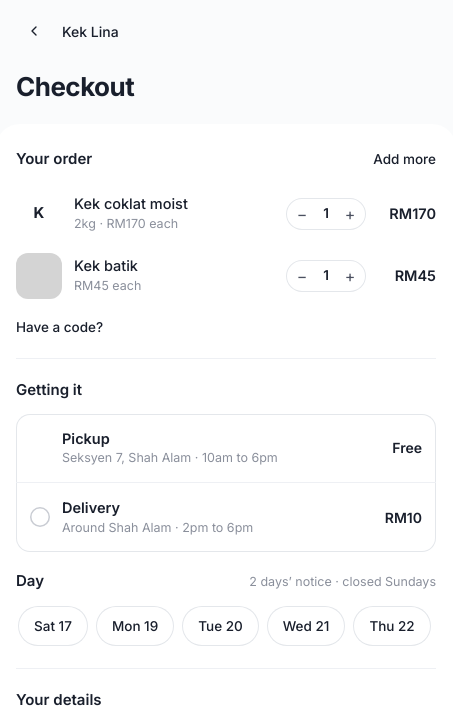
Test: Checkout › lists the basket with steppers and the total
The image size is (453, 725).
Expected: the text "2kg · RM170 each" is shown, x1=74 y1=216 x2=178 y2=231
Expected: the text "RM170" is shown, x1=389 y1=205 x2=436 y2=222
Click the button named "One more" at point(350, 214), box x1=336 y1=200 x2=364 y2=228
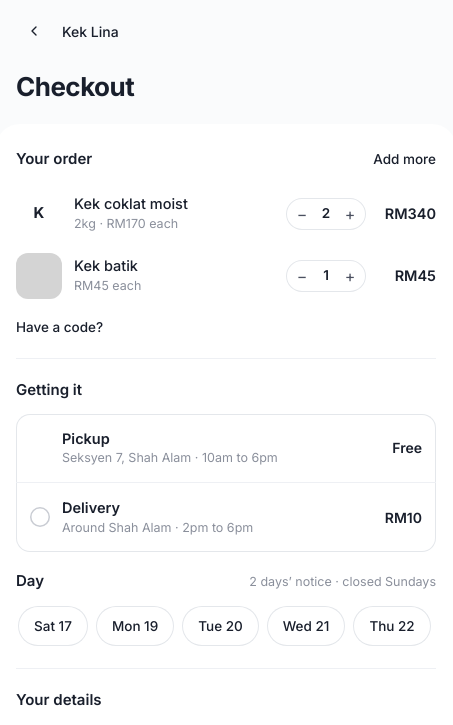
Now the text "RM340" is shown, box x1=378 y1=203 x2=436 y2=224
At 1, one less takes the line away, as the board's minus does.
Click the button named "One less" at point(302, 276), box x1=288 y1=262 x2=316 y2=290
(page scrolled)
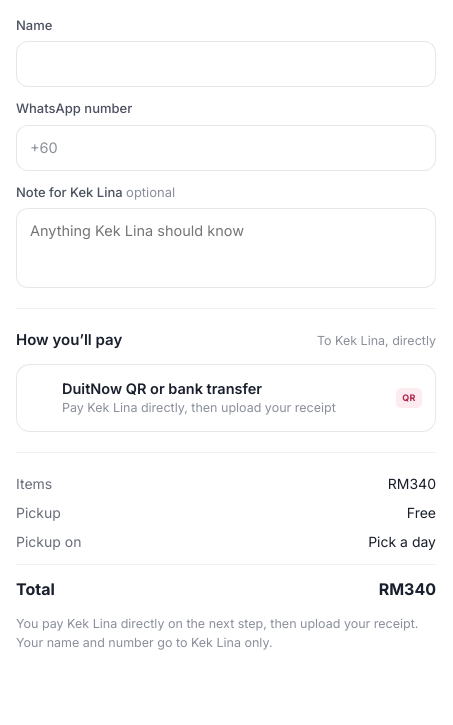
Now the text "Kek batik" is gone
